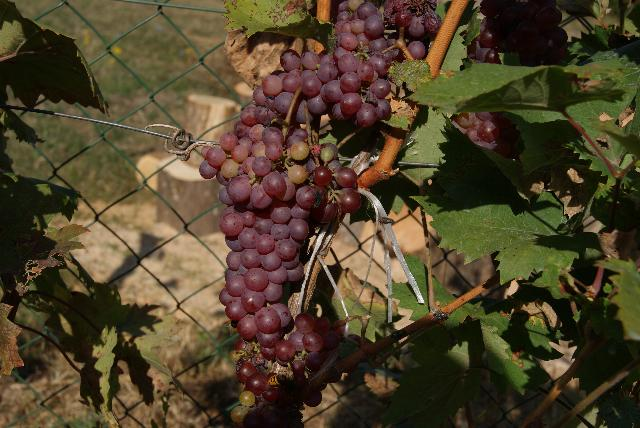grapes: (200, 74, 361, 321), (254, 31, 391, 126), (335, 0, 441, 62), (270, 312, 341, 389), (231, 360, 295, 428)
